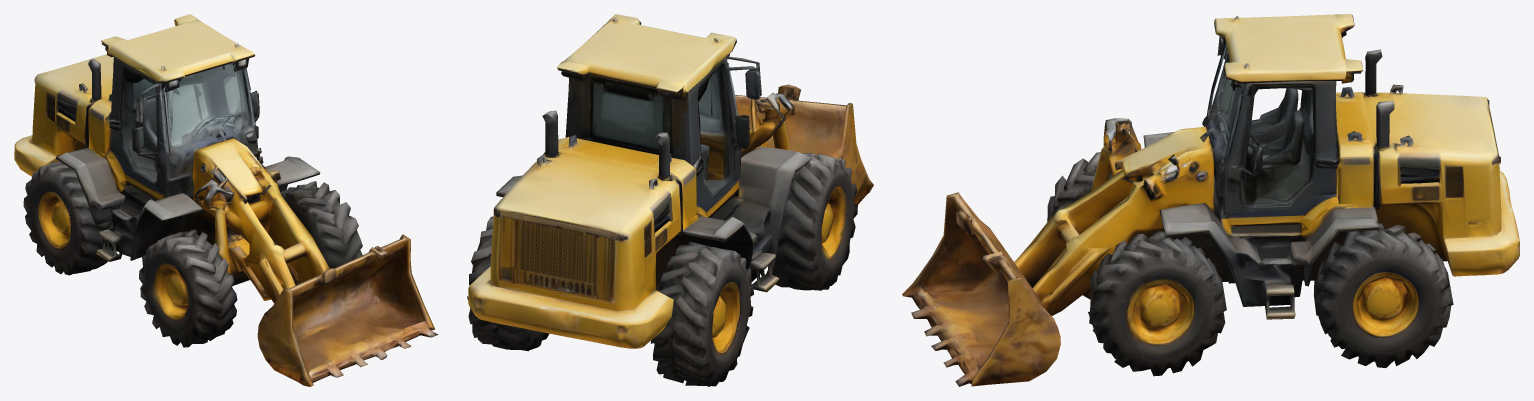
The model's file is qr_loader.glb.
3 renders of one model, left to right at view 1: azimuth 30°, elevation 25°; view 2: azimuth 150°, elevation 25°; view 3: azimuth 270°, elevation 25°, orthographic. The views are drawn at different scales.
Parts seen in each view (by area): view 1: tripo_node_07bfc2e0-3f98-4ce0-a04a-edd60e3c094b; view 2: tripo_node_07bfc2e0-3f98-4ce0-a04a-edd60e3c094b; view 3: tripo_node_07bfc2e0-3f98-4ce0-a04a-edd60e3c094b.
Boxes of the visible parts, x1,y1,x2,y2 form: tripo_node_07bfc2e0-3f98-4ce0-a04a-edd60e3c094b: (14, 14, 438, 386); tripo_node_07bfc2e0-3f98-4ce0-a04a-edd60e3c094b: (467, 14, 873, 386); tripo_node_07bfc2e0-3f98-4ce0-a04a-edd60e3c094b: (902, 14, 1519, 386).
Bounding box in the file's own units: 0.508 × 0.4956 × 0.9813.
Materials: 1 (1 with a texture image).
